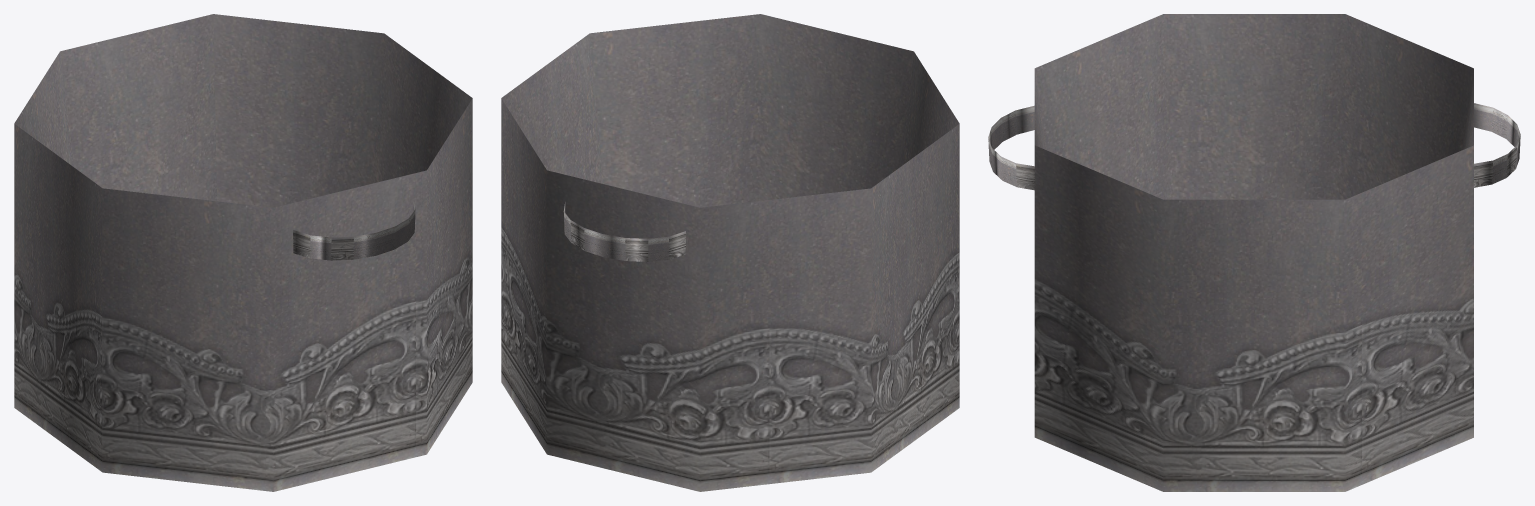
Rendered from M_Home_Garden_Kitchen_Pan02.fbx.
3 renders of one model, left to right at view 1: azimuth 30°, elevation 25°; view 2: azimuth 150°, elevation 25°; view 3: azimuth 270°, elevation 25°, orthographic. The views are drawn at different scales.
Parts seen in each view (by area): view 1: M_Home_Garden_Kitchen_Pan02; view 2: M_Home_Garden_Kitchen_Pan02; view 3: M_Home_Garden_Kitchen_Pan02.
Boxes of the visible parts, <box> form: M_Home_Garden_Kitchen_Pan02: <box>14,14,472,491</box>; M_Home_Garden_Kitchen_Pan02: <box>501,14,959,491</box>; M_Home_Garden_Kitchen_Pan02: <box>988,14,1520,491</box>.
Size of the model in its own units: 25.49 by 18.7 by 30.88.
